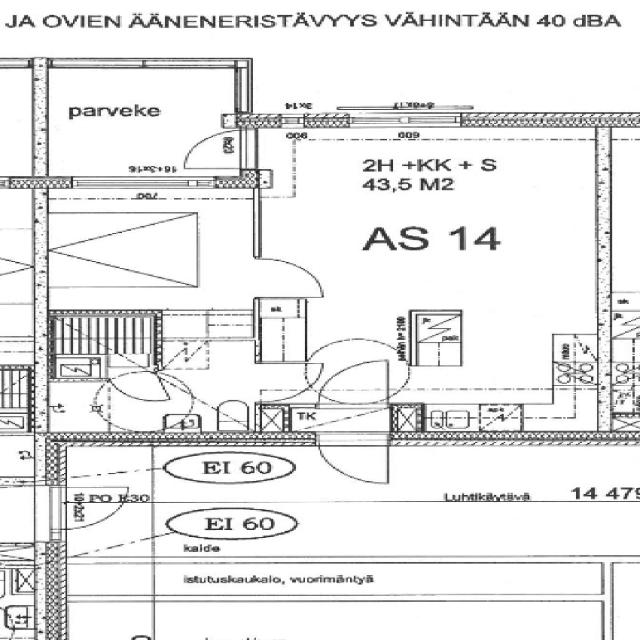door: (318, 432, 388, 488), (317, 361, 386, 409), (179, 130, 258, 168), (108, 367, 171, 408), (251, 259, 318, 296), (251, 364, 317, 400)
